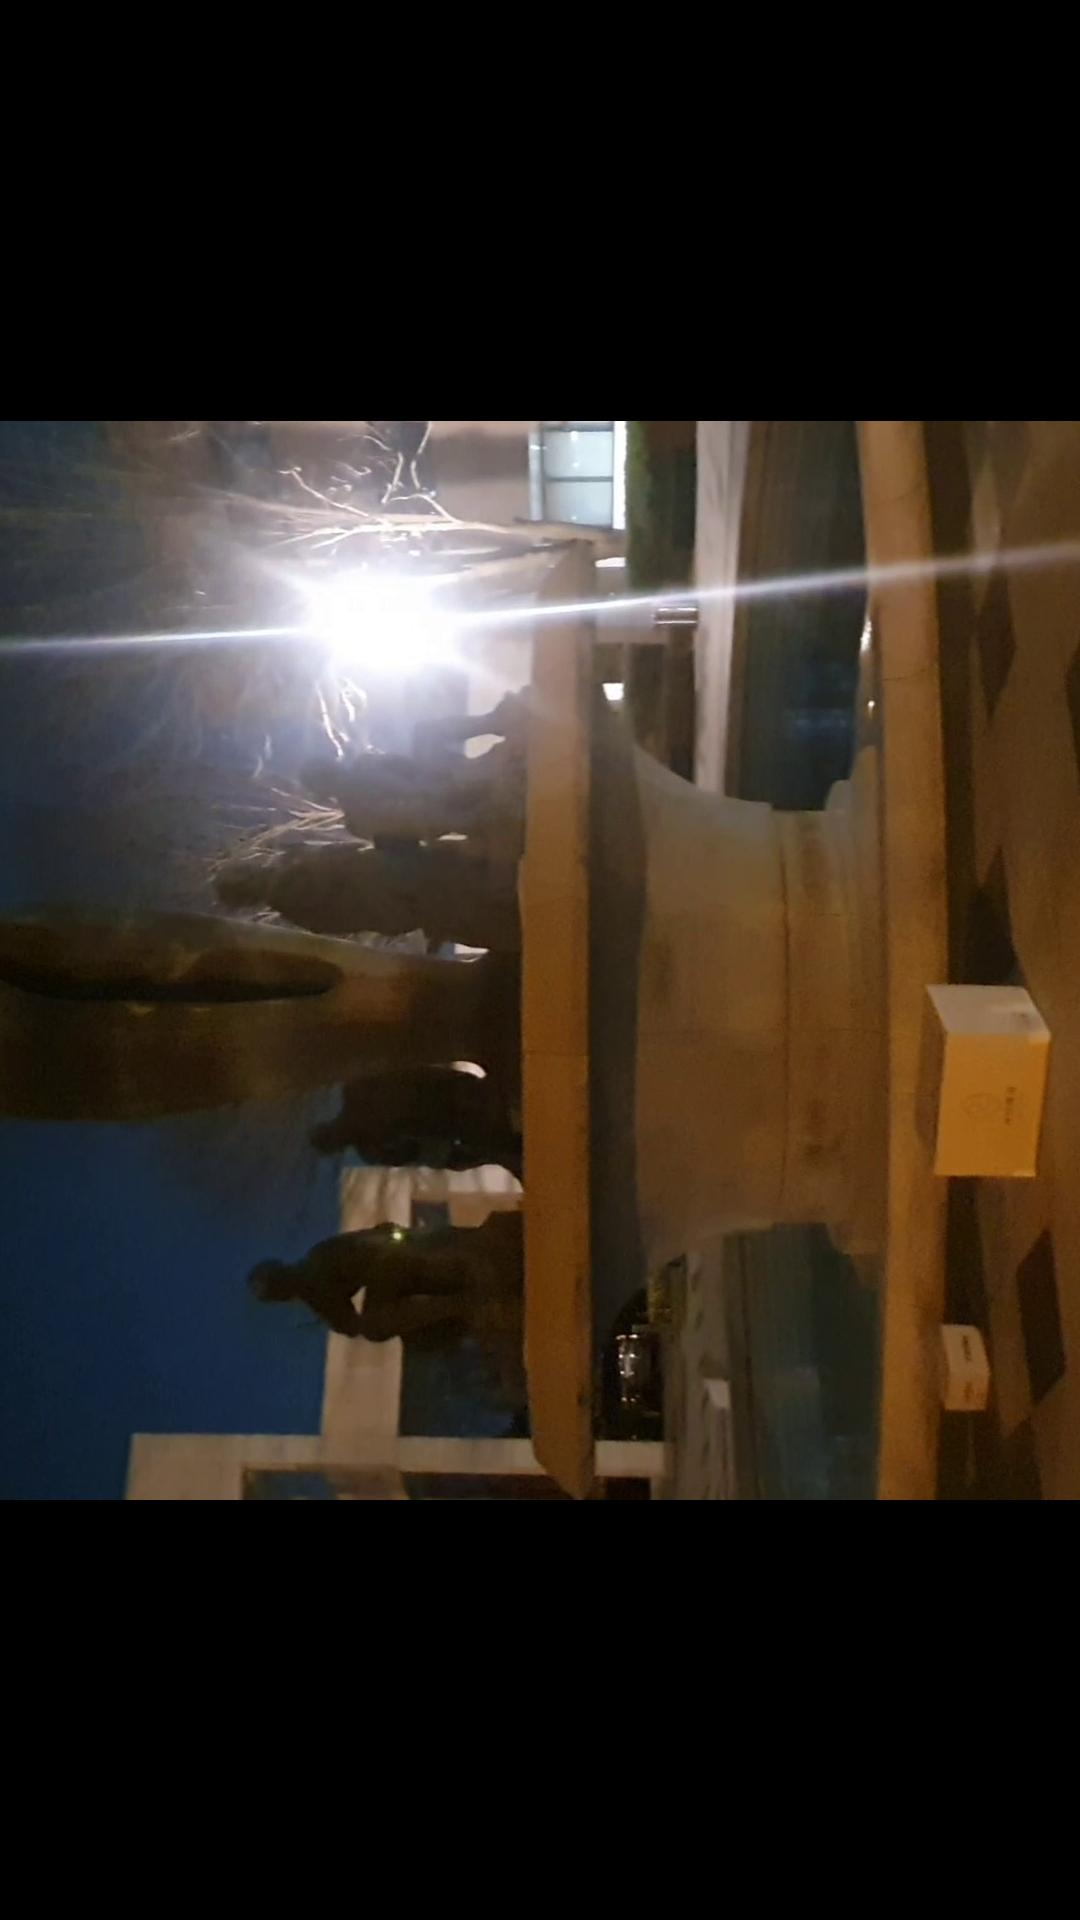Box: (903, 978, 1068, 1187), (918, 1315, 1005, 1414)
